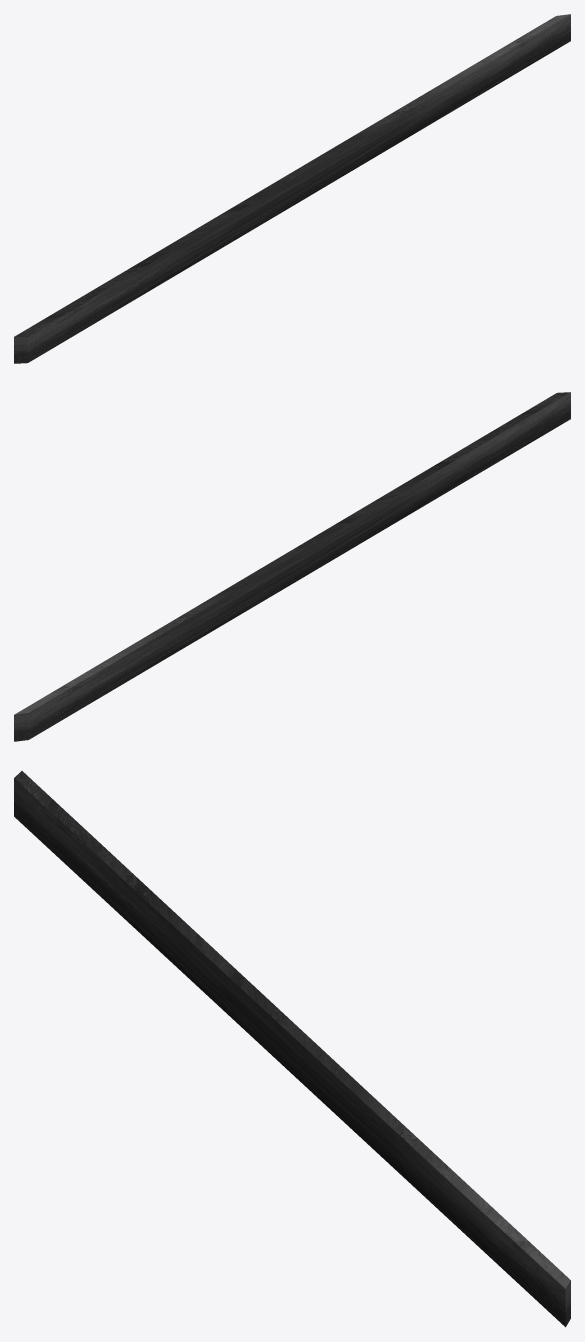
The model's file is noir2.FBX.
The picture shows the model from 3 angles, top to bottom: view 1: azimuth 30°, elevation 25°; view 2: azimuth 210°, elevation 25°; view 3: azimuth 270°, elevation 25°; orthographic projection. The views are drawn at different scales.
Parts seen in each view (by area): view 1: Ligne013; view 2: Ligne013; view 3: Ligne013.
Part boxes in pixels (left/top/right/bottom): Ligne013: left=14, top=14, right=570, bottom=363; Ligne013: left=14, top=392, right=570, bottom=741; Ligne013: left=14, top=771, right=570, bottom=1327.
Bounding box in the file's own units: 20.76 × 0.7143 × 9.42.
Materials: 1 (1 with a texture image).
